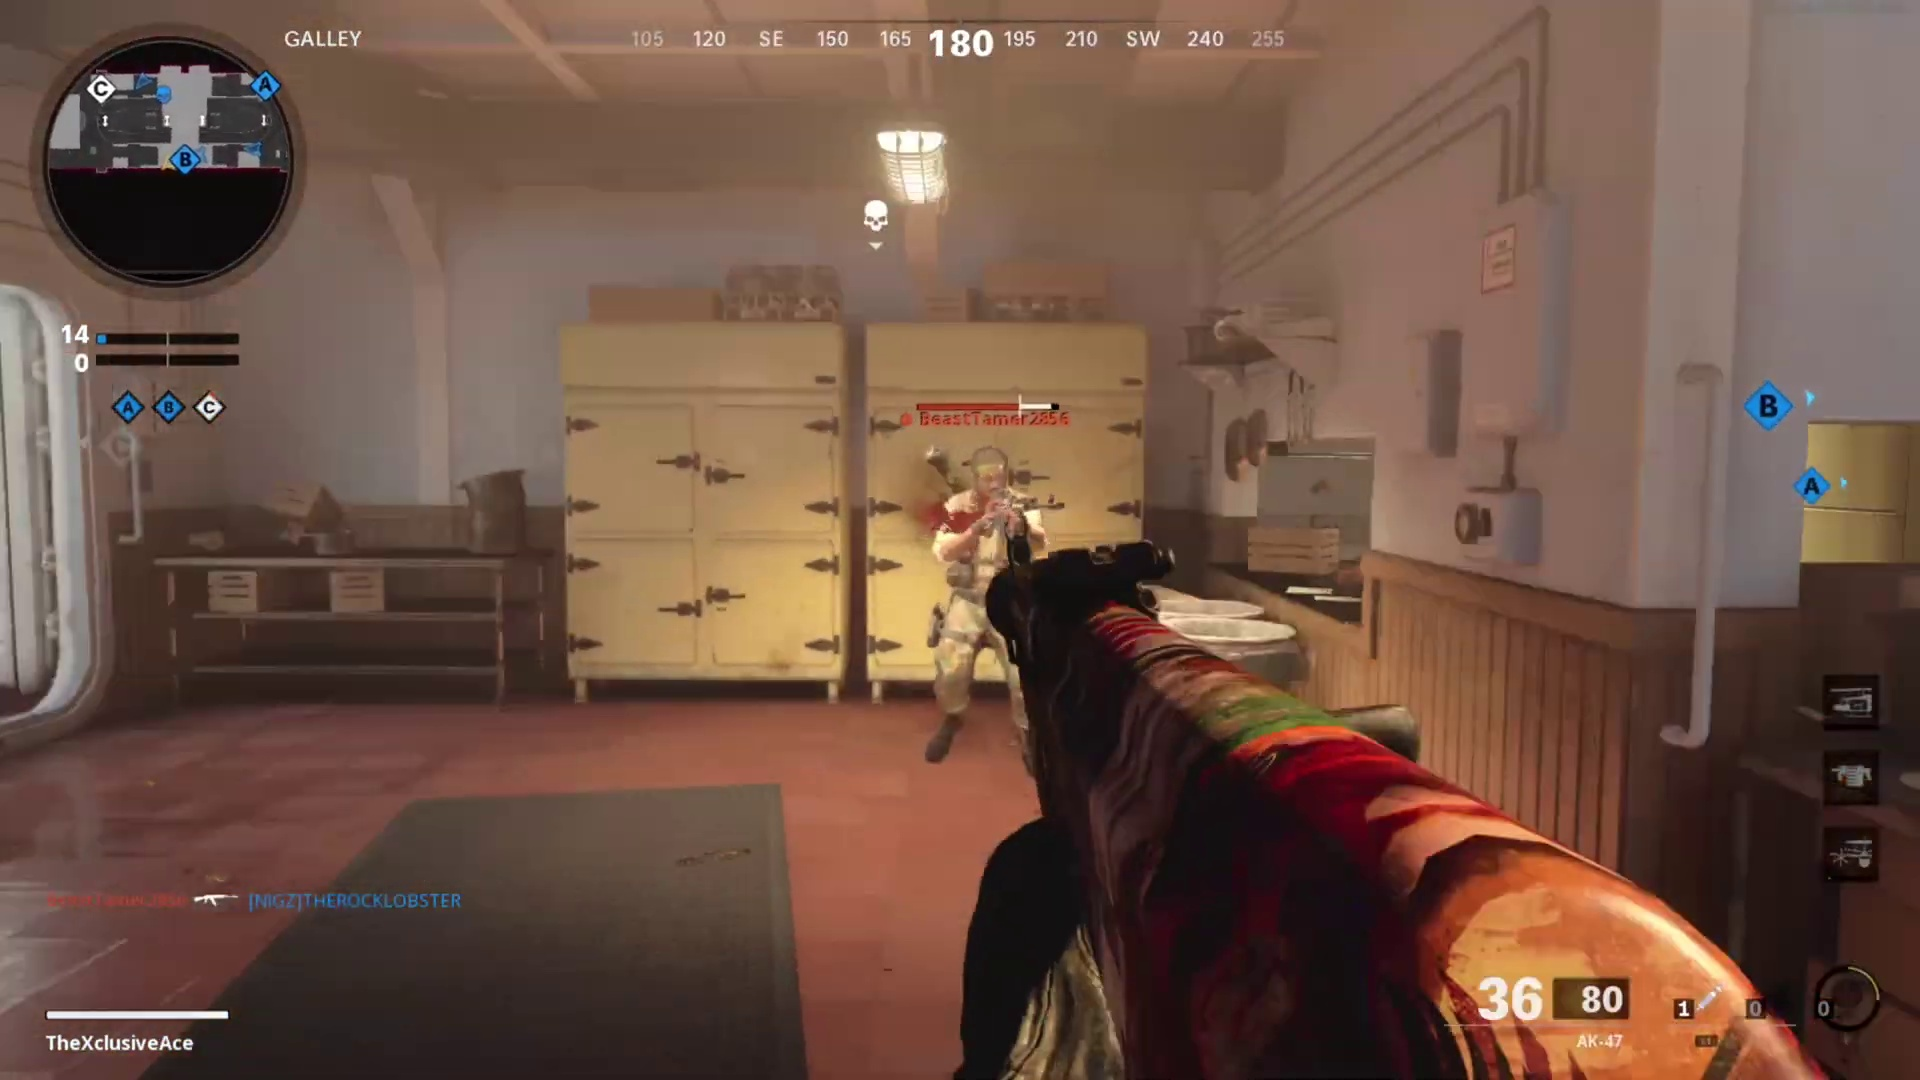head: (966, 445, 1015, 511)
person: (922, 449, 1048, 765)
